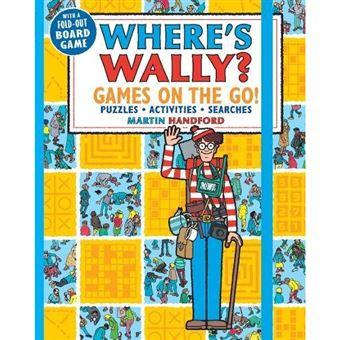waldos: (161, 125, 243, 330)
